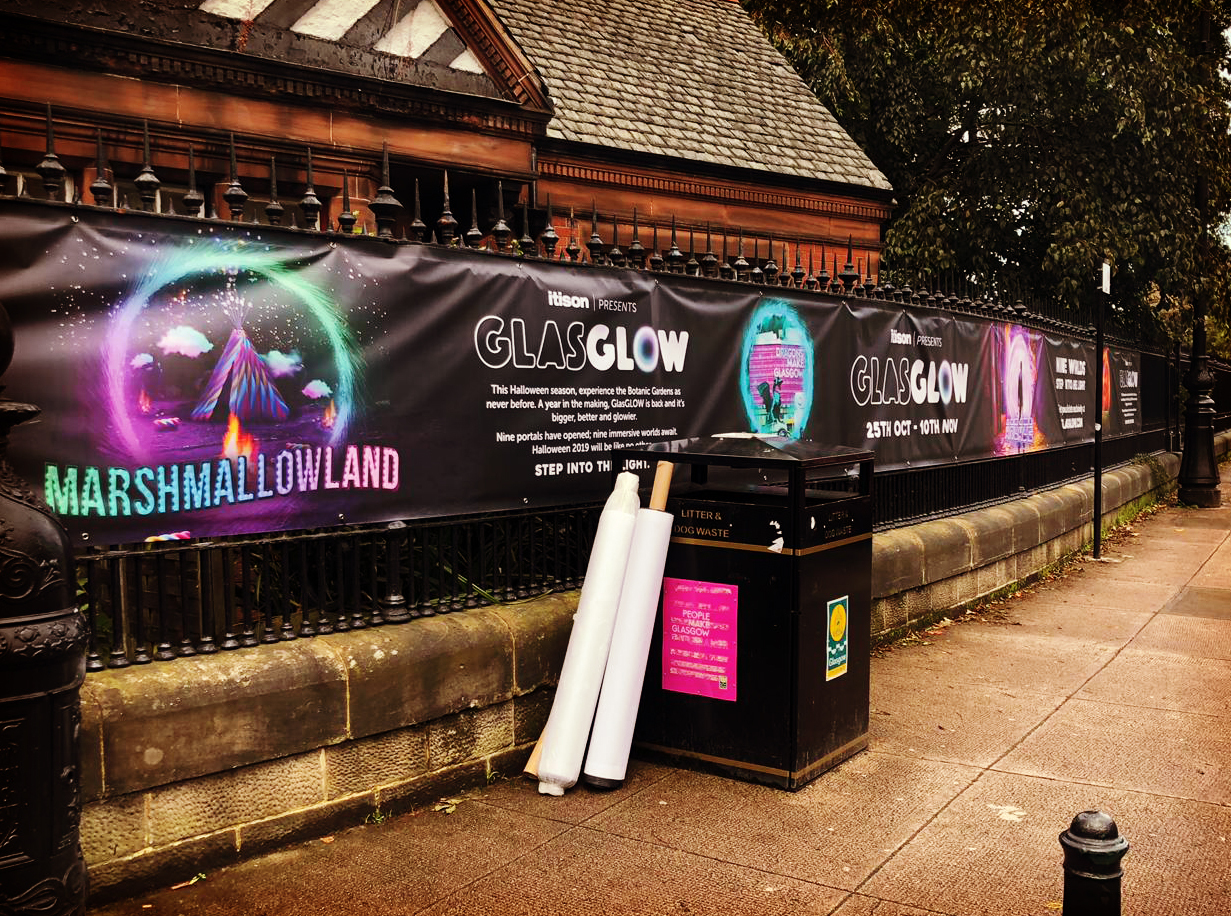vinyl banner: (3, 190, 1172, 547)
